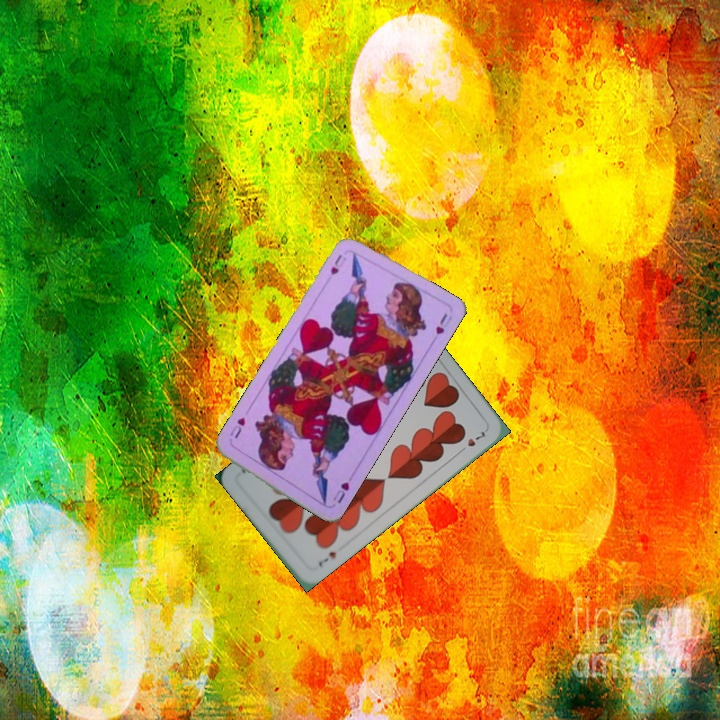H7: (314, 547, 339, 569)
HU: (329, 478, 352, 506), (326, 250, 345, 278)
